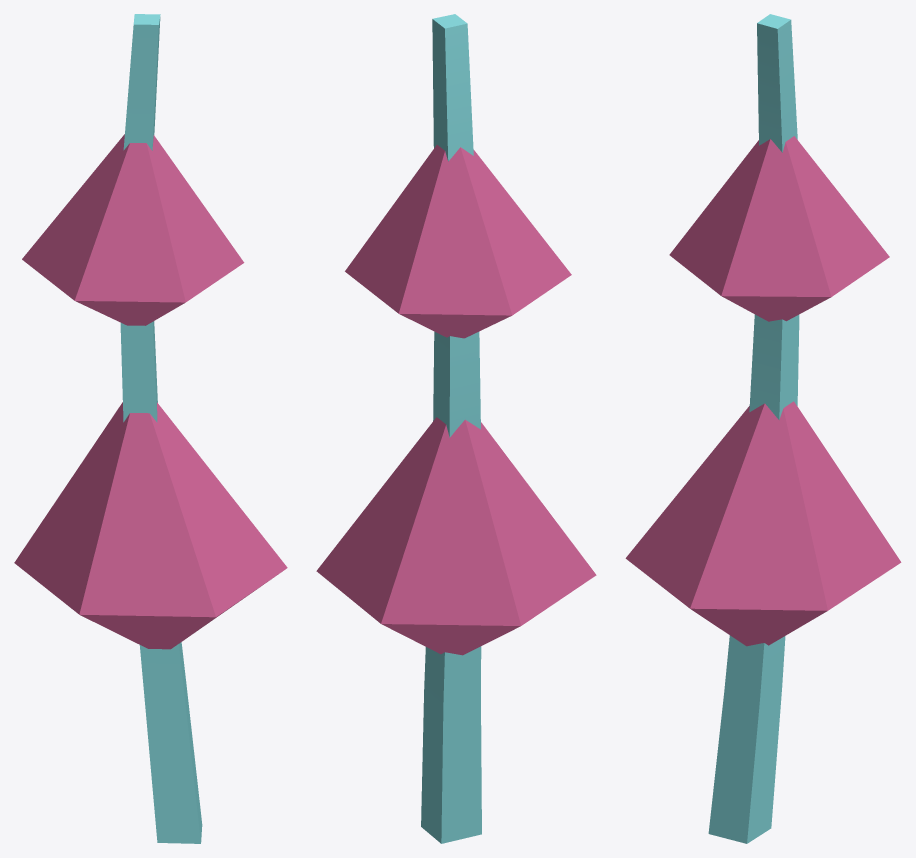
The model's file is scifi_scifi-plant-baggy-small.fbx.
3 views of the same model, side by side, from view 1: azimuth 30°, elevation 25°; view 2: azimuth 150°, elevation 25°; view 3: azimuth 270°, elevation 25° (orthographic). The views are drawn at different scales.
Visible parts, largest first — view 1: scifi_scifi_plant_baggy_small; view 2: scifi_scifi_plant_baggy_small; view 3: scifi_scifi_plant_baggy_small.
Boxes of the visible parts, x1,y1,x2,y2 form: scifi_scifi_plant_baggy_small: [14, 14, 287, 843]; scifi_scifi_plant_baggy_small: [316, 14, 596, 843]; scifi_scifi_plant_baggy_small: [625, 14, 901, 843].
Bounding box in the file's own units: 54.17 × 200 × 62.38.
